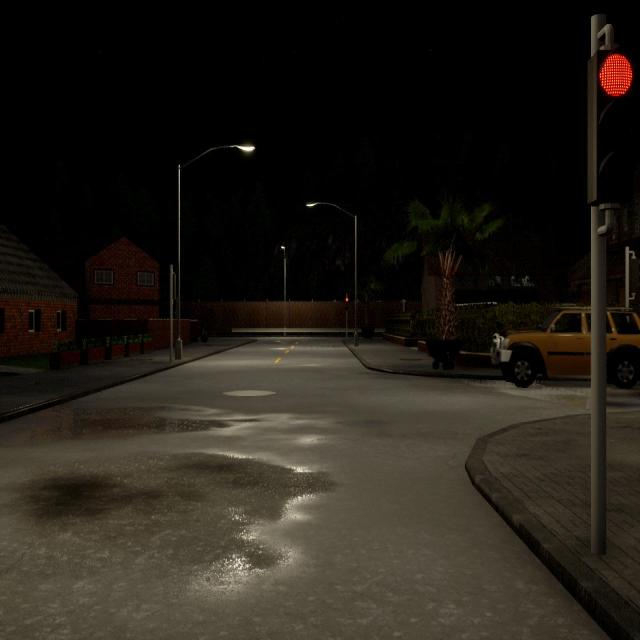Vehicle: (490, 306, 640, 388)
traffic_light: (588, 44, 634, 207), (629, 258, 640, 294), (168, 274, 176, 300), (345, 298, 349, 310)
